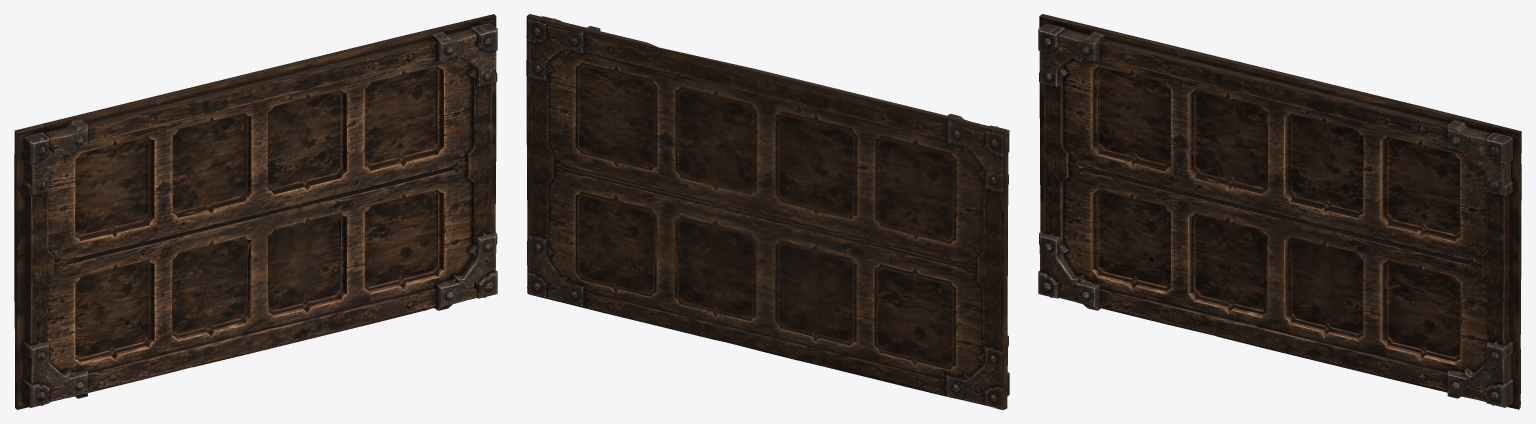
Rendered from meshy_game_board.glb.
The picture shows the model from 3 angles, left to right: view 1: azimuth 30°, elevation 25°; view 2: azimuth 150°, elevation 25°; view 3: azimuth 330°, elevation 25°; orthographic projection.
Parts seen in each view (by area): view 1: output_unwrapped; view 2: output_unwrapped; view 3: output_unwrapped.
Boxes of the visible parts, <box> form: output_unwrapped: <box>14,14,497,409</box>; output_unwrapped: <box>526,14,1009,409</box>; output_unwrapped: <box>1038,14,1521,409</box>.
Size of the model in its own units: 1.9 by 1.05 by 0.0984.
Materials: 1 (1 with a texture image).
